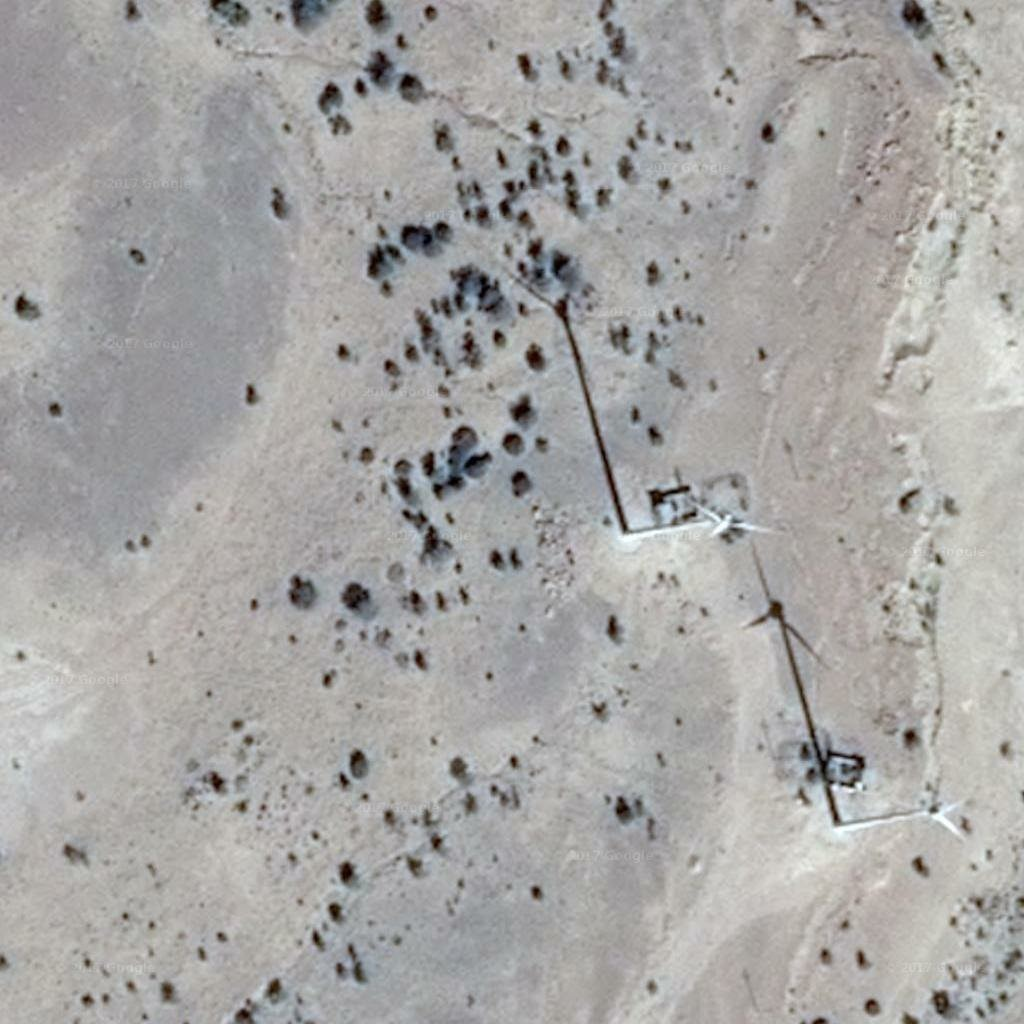Windmill: (506, 264, 643, 532)
